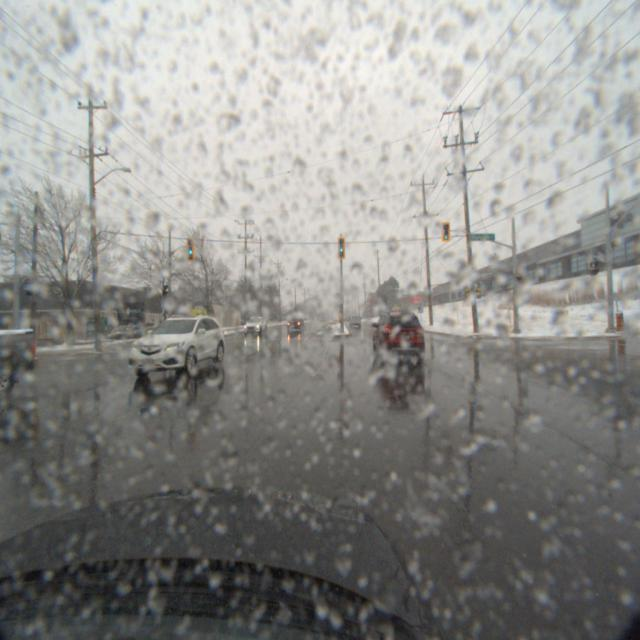Car: (116, 314, 228, 382), (365, 313, 427, 369), (238, 317, 265, 338)
